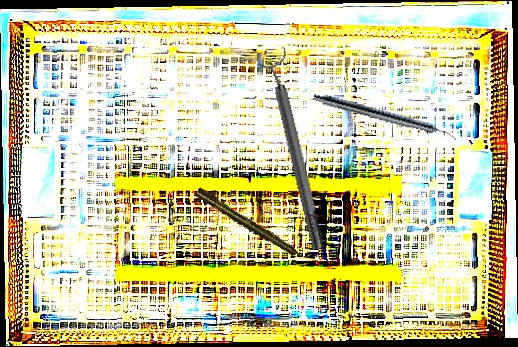Fixation Ring: (254, 46, 334, 253)
Handpiece: (194, 186, 310, 265), (311, 91, 459, 143)
